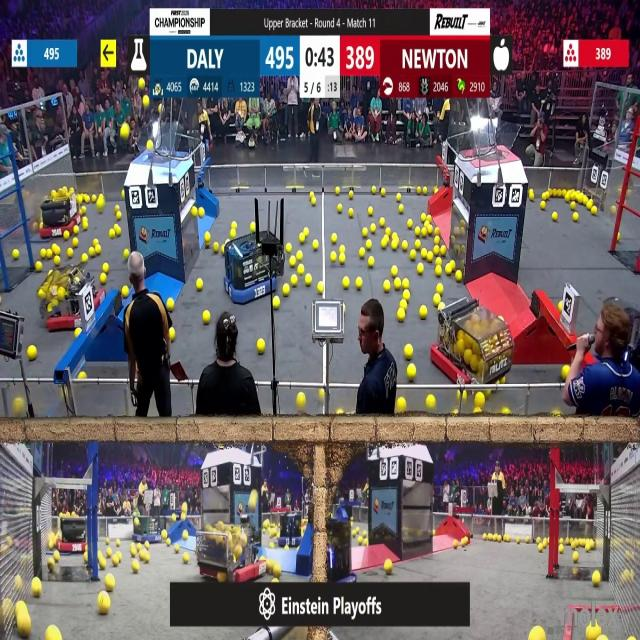ball_airborne: (249, 490, 257, 510), (120, 125, 128, 140), (143, 96, 149, 108), (147, 140, 153, 150), (139, 78, 145, 88)
ball_ground: (20, 615, 32, 638), (99, 593, 110, 614), (32, 579, 42, 598), (46, 627, 59, 640), (530, 628, 544, 640), (13, 398, 23, 414), (592, 571, 602, 586), (106, 576, 115, 592), (408, 363, 417, 378), (296, 392, 304, 408), (426, 394, 435, 408), (477, 393, 486, 407), (256, 340, 264, 355), (384, 560, 392, 575), (396, 397, 405, 410), (406, 346, 414, 360), (29, 346, 37, 360), (273, 295, 281, 308), (274, 564, 282, 577), (562, 364, 569, 378), (420, 307, 428, 319), (133, 560, 140, 573), (434, 267, 442, 278), (283, 284, 290, 296), (204, 312, 211, 324), (397, 310, 404, 322), (195, 279, 202, 291), (169, 328, 176, 340), (317, 282, 324, 294), (427, 250, 434, 262), (446, 265, 453, 277), (432, 294, 440, 304), (121, 286, 128, 297), (343, 278, 350, 289), (394, 279, 401, 290), (290, 275, 297, 286), (218, 572, 225, 583), (356, 278, 362, 290), (384, 280, 390, 292), (168, 300, 174, 312), (101, 274, 107, 286), (398, 301, 406, 310), (306, 275, 312, 287), (420, 249, 428, 258), (100, 559, 107, 569), (571, 212, 578, 222), (435, 284, 442, 294), (112, 556, 119, 566), (108, 230, 115, 240), (132, 548, 139, 558), (98, 200, 105, 210), (140, 552, 147, 562), (421, 229, 428, 239), (297, 265, 303, 276), (418, 265, 424, 276), (367, 256, 373, 267), (391, 267, 397, 278), (411, 249, 417, 260), (290, 255, 296, 266), (12, 249, 18, 260), (382, 238, 388, 249), (461, 536, 468, 545), (420, 213, 427, 222), (402, 279, 408, 289), (340, 253, 346, 263), (402, 290, 408, 300), (68, 248, 74, 258), (456, 272, 462, 282), (250, 222, 256, 232), (402, 241, 408, 251), (359, 248, 365, 258), (82, 220, 88, 230), (182, 554, 188, 564), (391, 241, 397, 251), (55, 254, 61, 264), (205, 234, 211, 244), (40, 249, 46, 259), (45, 249, 51, 259), (182, 530, 188, 540), (572, 552, 578, 562), (433, 246, 439, 256), (318, 388, 324, 398), (296, 251, 302, 261), (365, 240, 371, 250), (117, 225, 123, 235), (199, 208, 205, 218), (230, 228, 236, 238), (427, 225, 433, 235), (415, 225, 421, 235), (587, 200, 593, 210), (81, 254, 88, 262), (338, 410, 345, 418), (501, 410, 509, 417), (98, 193, 105, 201), (83, 553, 88, 564), (36, 263, 42, 272), (103, 265, 109, 274), (74, 224, 80, 233), (330, 252, 336, 261), (314, 241, 320, 250), (96, 246, 102, 255), (64, 232, 70, 241), (74, 328, 80, 337), (362, 229, 368, 238), (397, 205, 403, 214), (55, 553, 61, 562), (369, 223, 375, 232), (55, 247, 61, 256), (572, 567, 578, 576), (191, 208, 197, 217), (38, 289, 44, 298), (331, 234, 336, 244), (299, 234, 304, 244), (416, 240, 421, 250), (529, 189, 534, 199), (341, 242, 346, 252), (442, 246, 447, 256), (163, 530, 168, 540), (554, 411, 561, 418), (93, 240, 100, 247), (90, 248, 96, 256), (539, 202, 545, 210), (592, 207, 598, 215), (435, 256, 441, 264), (286, 244, 292, 252), (452, 540, 458, 548), (166, 538, 172, 546), (80, 207, 86, 215), (565, 195, 571, 203), (542, 191, 548, 199), (498, 378, 504, 386), (586, 542, 592, 550), (450, 259, 456, 267), (73, 239, 78, 248), (123, 249, 128, 258), (553, 212, 558, 221), (349, 208, 354, 217), (367, 207, 372, 216), (107, 549, 112, 558), (175, 542, 180, 551), (409, 219, 414, 228), (93, 193, 98, 202), (434, 236, 439, 245), (273, 576, 280, 582), (79, 371, 85, 378), (304, 227, 310, 234), (370, 186, 376, 193), (391, 234, 397, 241), (270, 541, 276, 548), (452, 411, 458, 418), (462, 392, 468, 399), (309, 191, 315, 198), (381, 218, 386, 226), (214, 242, 218, 252), (338, 205, 343, 213), (570, 202, 575, 210), (396, 192, 401, 200), (116, 212, 121, 220), (381, 188, 386, 196), (363, 537, 368, 545), (417, 186, 422, 194), (172, 514, 177, 522), (362, 530, 367, 538), (358, 538, 362, 547), (232, 221, 237, 228), (349, 191, 354, 198), (537, 543, 542, 550), (423, 187, 428, 194), (517, 536, 522, 543), (432, 186, 437, 193), (560, 544, 564, 552), (120, 190, 124, 198), (312, 199, 316, 207), (385, 227, 390, 233), (98, 552, 103, 558), (473, 410, 479, 415), (618, 235, 622, 242), (105, 537, 109, 544), (145, 541, 149, 548), (434, 227, 438, 234), (337, 187, 341, 194), (284, 544, 289, 549), (116, 539, 120, 545), (600, 636, 606, 640), (184, 513, 188, 519), (457, 392, 460, 398)
goal: (465, 121, 521, 160), (127, 125, 187, 159)
robot_blue: (221, 236, 283, 307), (276, 514, 304, 548), (133, 516, 161, 544)
robot_red: (433, 300, 499, 385), (41, 261, 102, 331), (196, 520, 263, 582), (42, 187, 80, 234), (57, 512, 89, 554)
